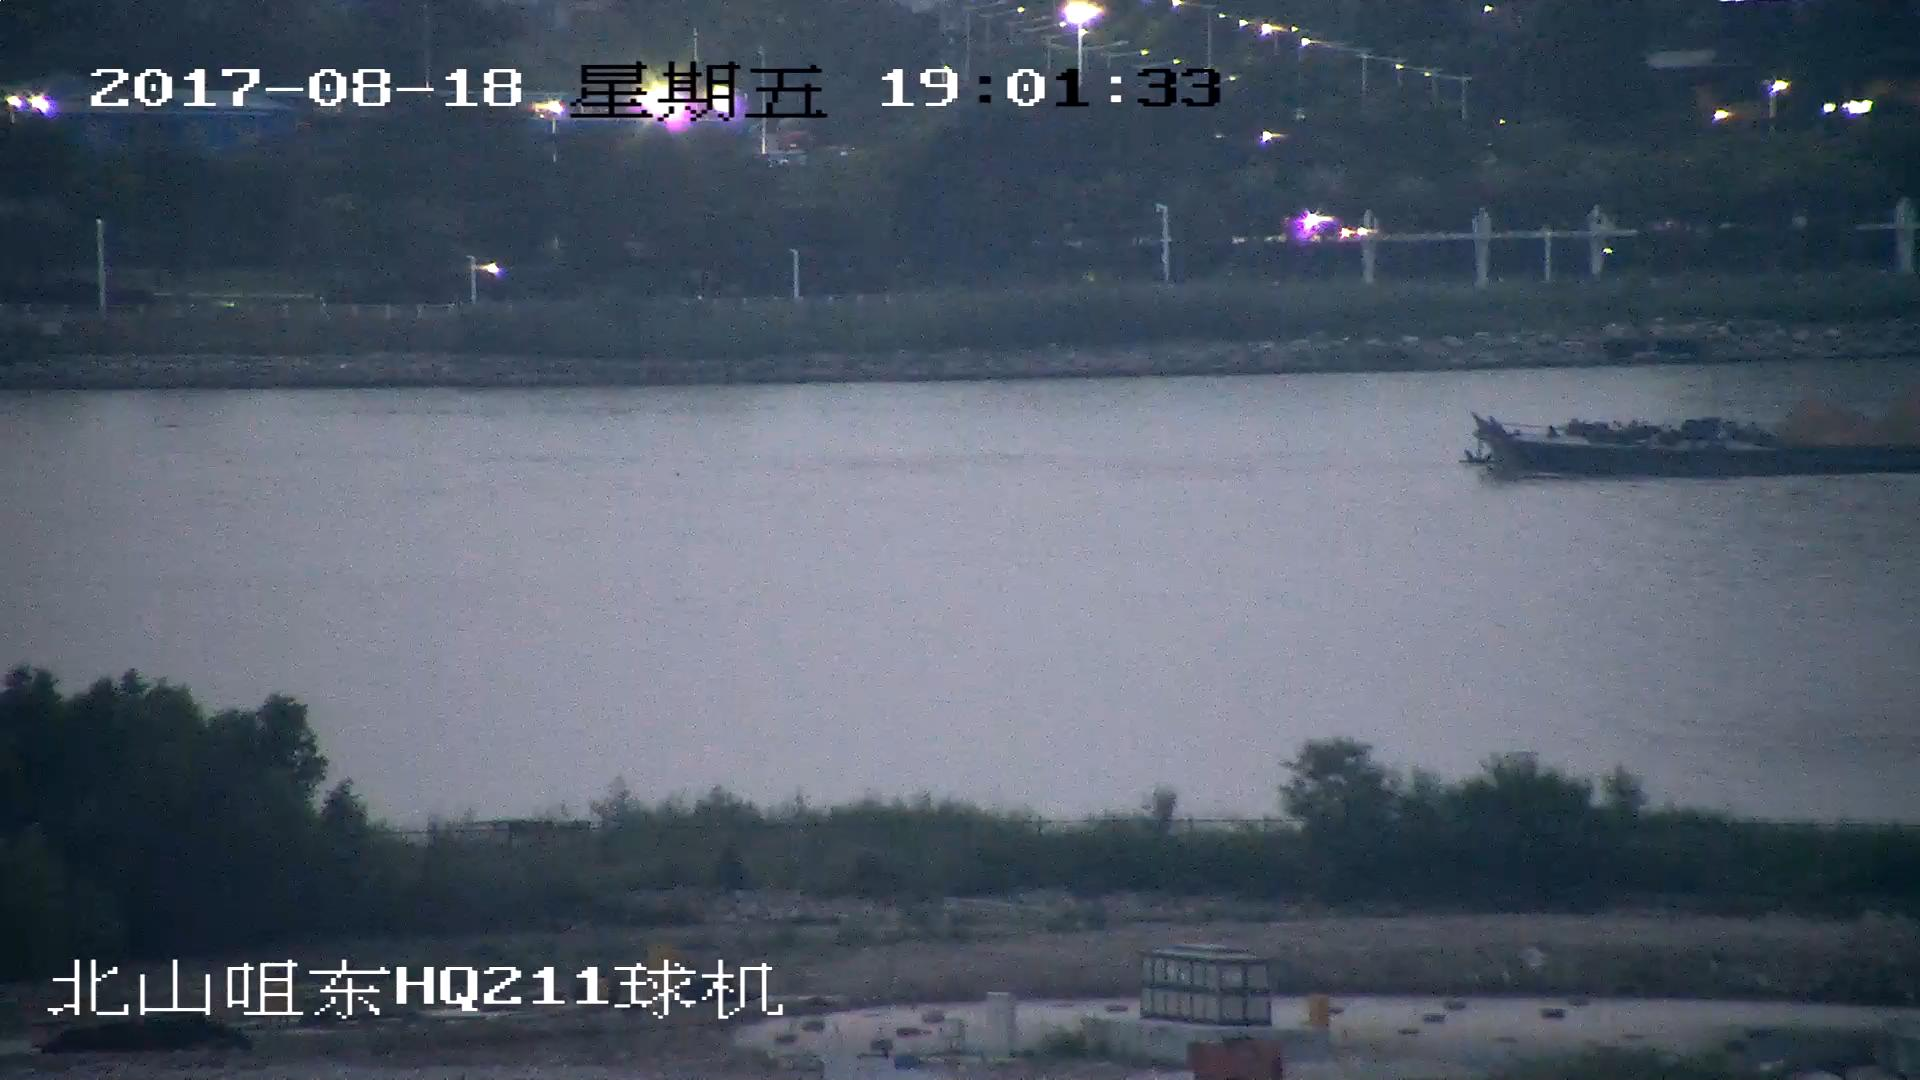ore carrier: (1466, 392, 1920, 485)
